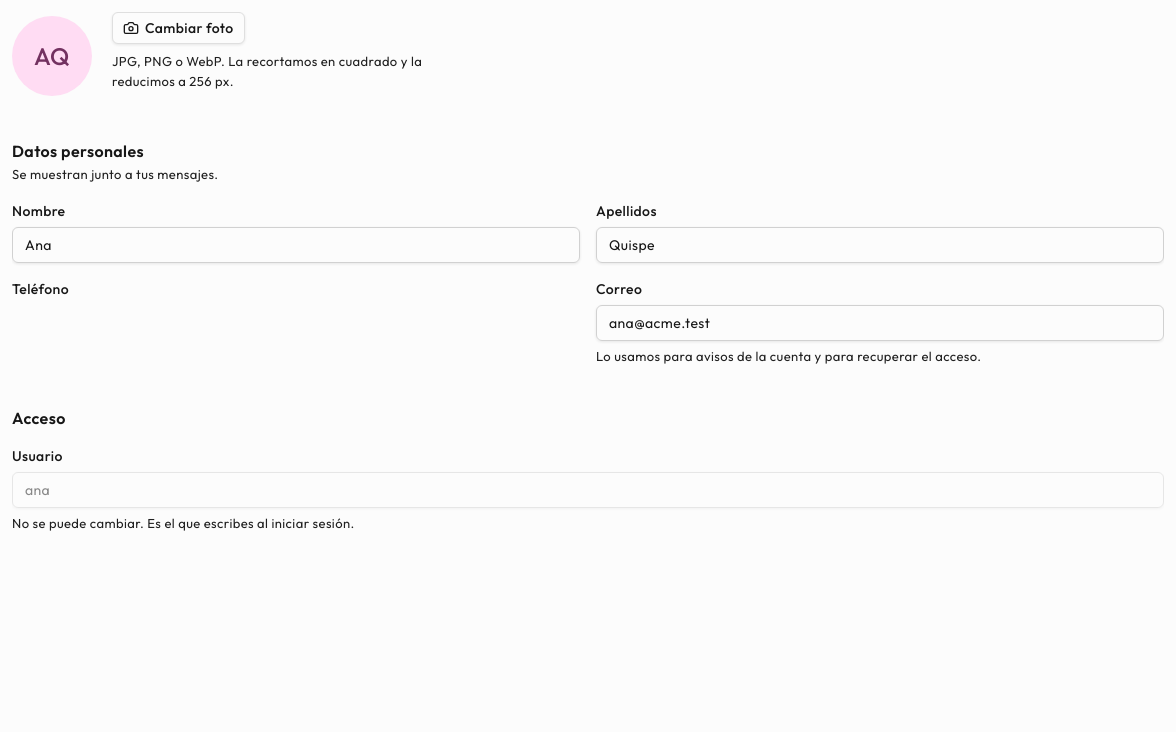
Test case: ProfileForm › shows the save bar only while dirty and discards the edits
The image size is (1176, 732).
Type "bel" into the field labelled "Nombre". click: (296, 244)
box: [12,226,580,262]
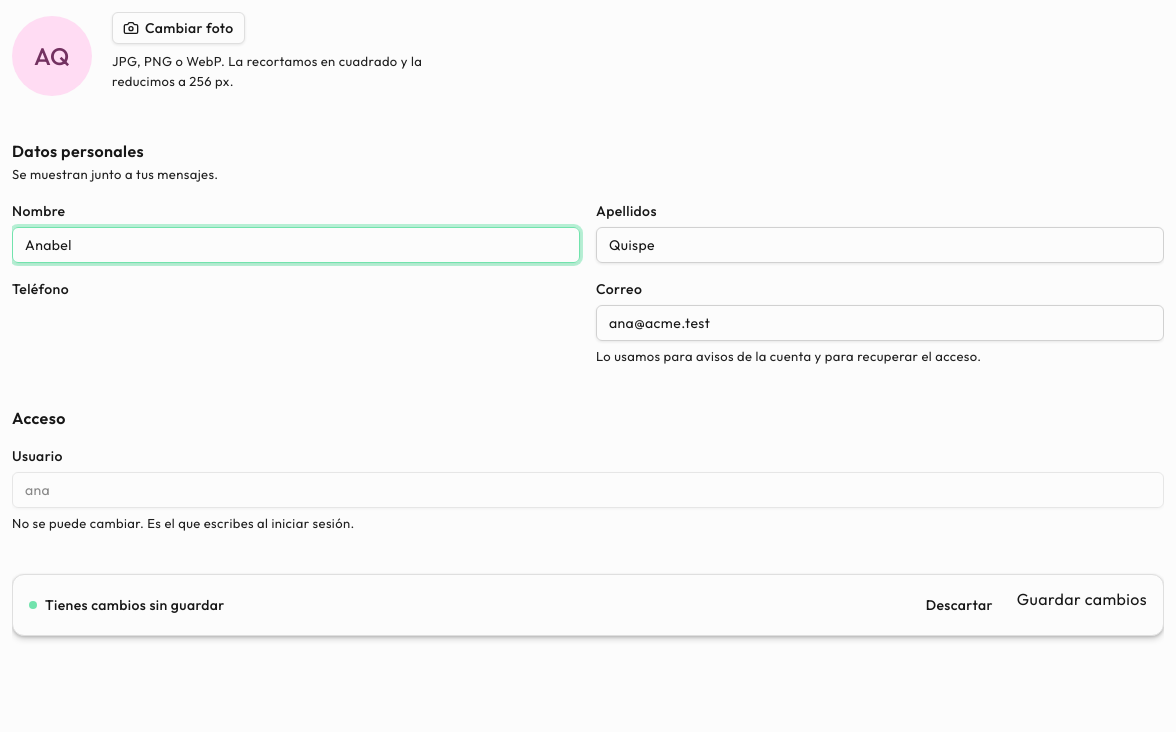
Check: the text "Tienes cambios sin guardar" is shown, box [29,594,225,614]
Check: the field labelled "Nombre" holds "Anabel", box [12,226,580,262]
Click the button "Descartar". click: (959, 604)
box: [910,586,1009,622]
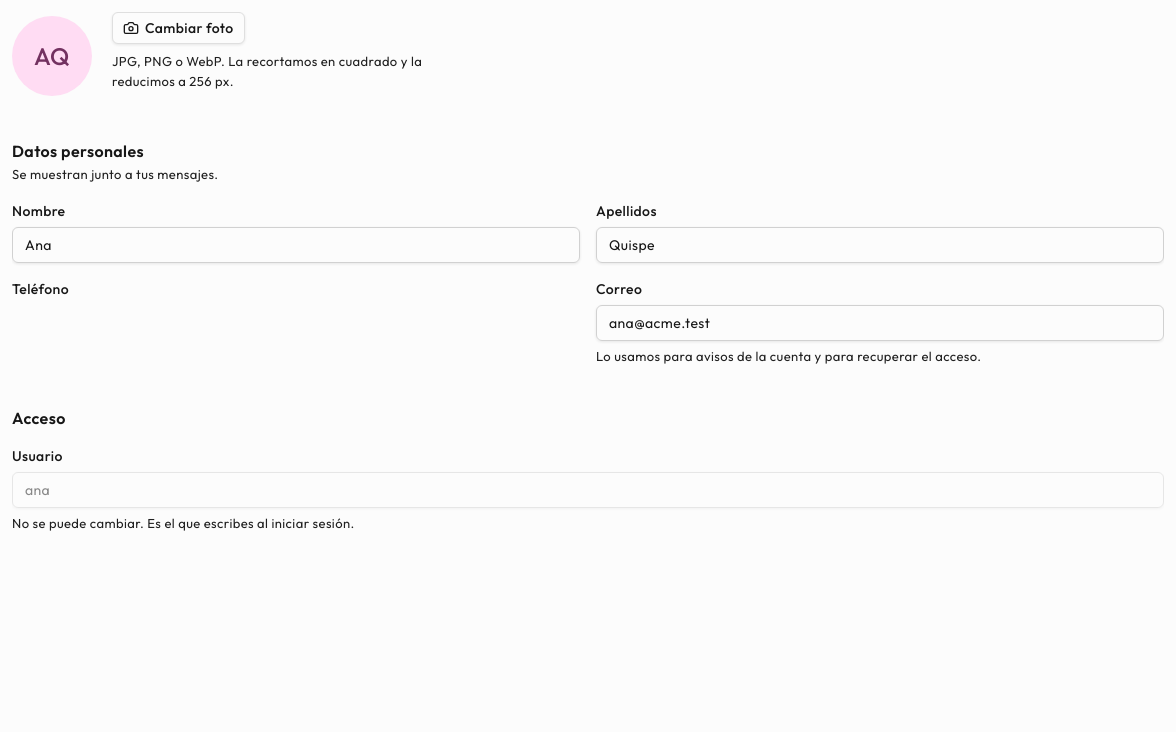
Check: the field labelled "Nombre" holds "Ana", box [12,226,580,262]
Check: the text "Tienes cambios sin guardar" is gone
